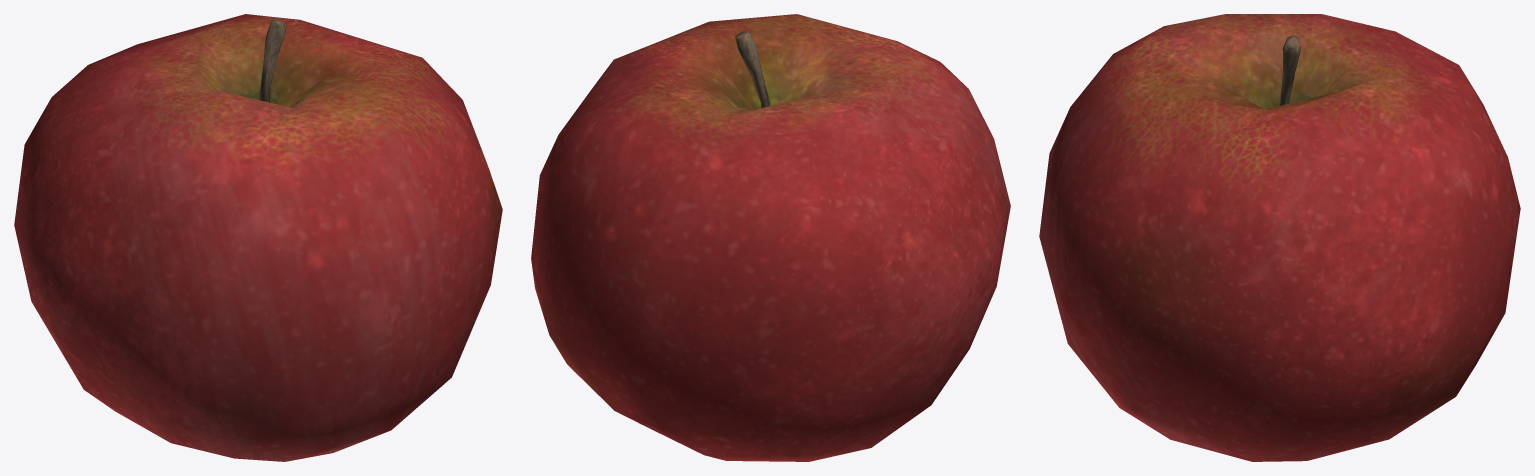
File: SM_Apple_A.fbx
3 renders of one model, left to right at view 1: azimuth 30°, elevation 25°; view 2: azimuth 150°, elevation 25°; view 3: azimuth 270°, elevation 25°, orthographic.
Parts seen in each view (by area): view 1: SM_Apple_A_LOD0; view 2: SM_Apple_A_LOD0; view 3: SM_Apple_A_LOD0.
Boxes of the visible parts, bbox=[...] form: SM_Apple_A_LOD0: bbox=[14, 14, 502, 461]; SM_Apple_A_LOD0: bbox=[531, 14, 1010, 461]; SM_Apple_A_LOD0: bbox=[1039, 14, 1520, 461].
Bounding box in the file's own units: 10.79 × 10.59 × 9.52.
1 material, 1 textured.
